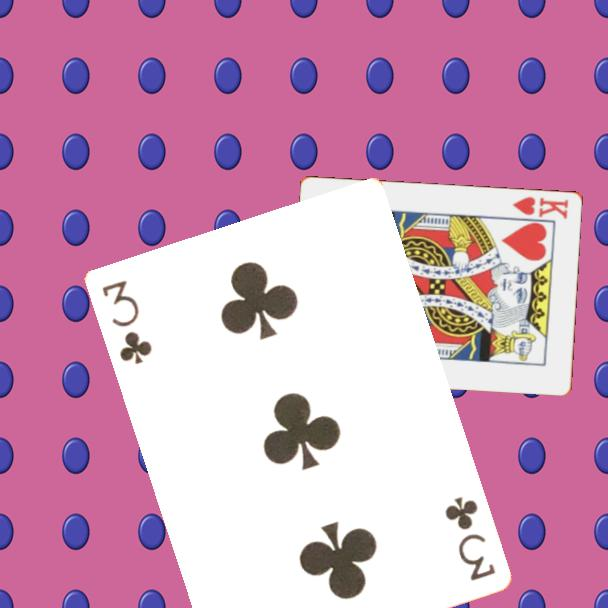c03: (440, 492, 498, 584), (98, 276, 155, 367)
h13: (509, 193, 571, 221)
